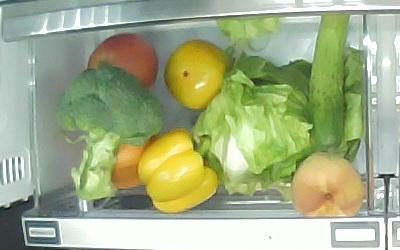apple: (87, 33, 159, 89)
broccoli: (57, 66, 165, 199)
cucumber: (309, 14, 352, 158)
lettuce: (194, 57, 364, 194)
paprika: (138, 128, 219, 213)
peach: (291, 151, 364, 218)
persimmon: (164, 40, 234, 111)
